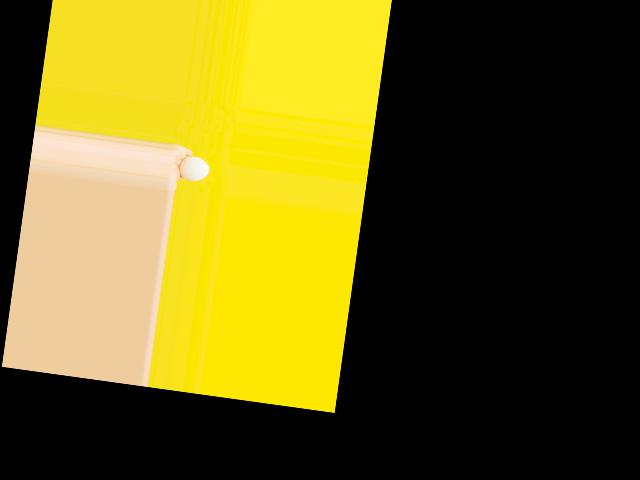egg: (177, 154, 210, 181)
